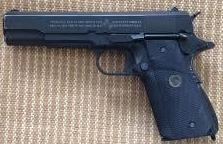gun: (1, 1, 223, 144)
